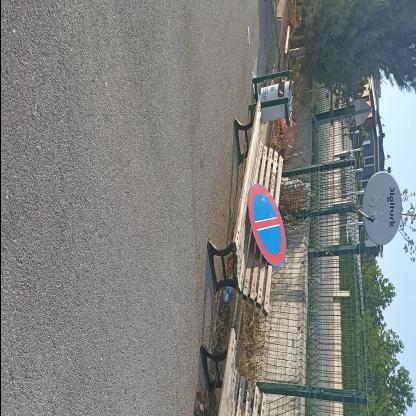No Waiting: (248, 186, 286, 268)
